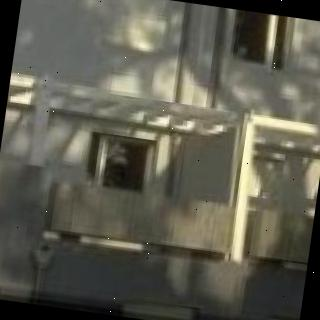smoke: (9, 0, 40, 85)
